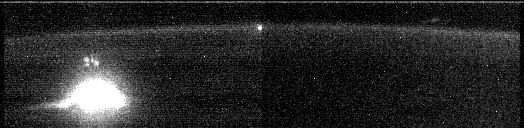positive: (78, 53, 102, 73)
